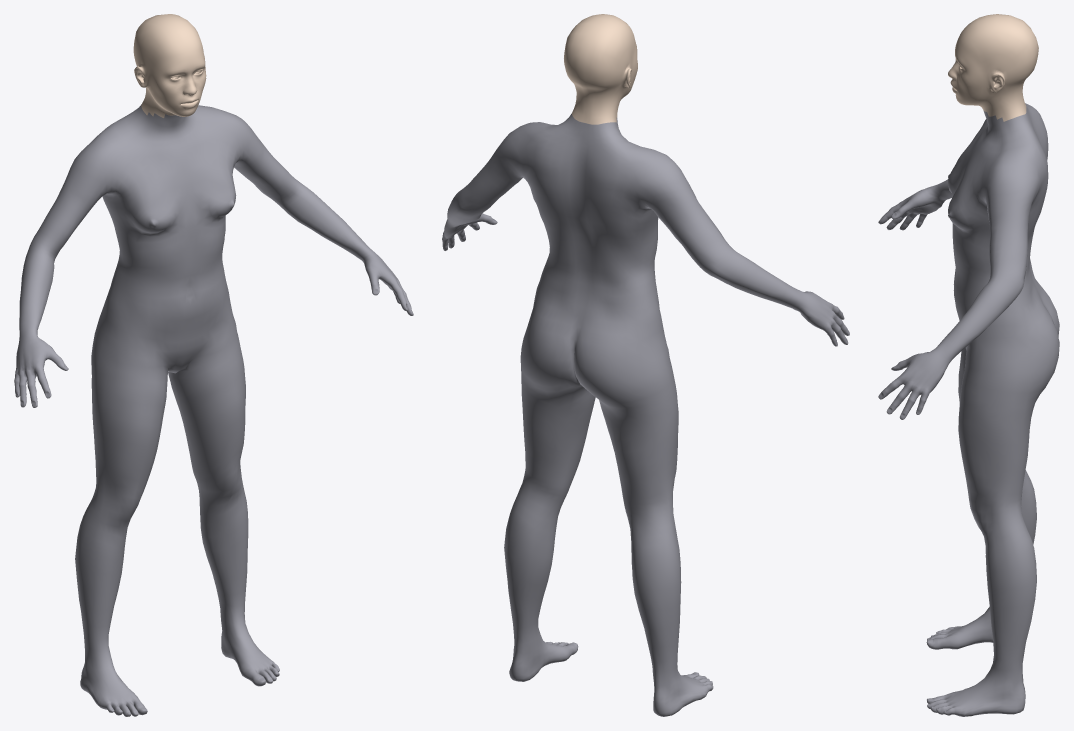
Rendered from npc_f_average.glb.
3 renders of one model, left to right at view 1: azimuth 30°, elevation 25°; view 2: azimuth 150°, elevation 25°; view 3: azimuth 270°, elevation 25°, orthographic. The views are drawn at different scales.
Parts seen in each view (by area): view 1: Human; view 2: Human; view 3: Human.
Part boxes in pixels (x1,y1,x2,y2): Human: (14, 14, 413, 716); Human: (442, 14, 849, 716); Human: (878, 14, 1059, 716).
Bounding box in the file's own units: 1.04 × 1.68 × 0.4179.
